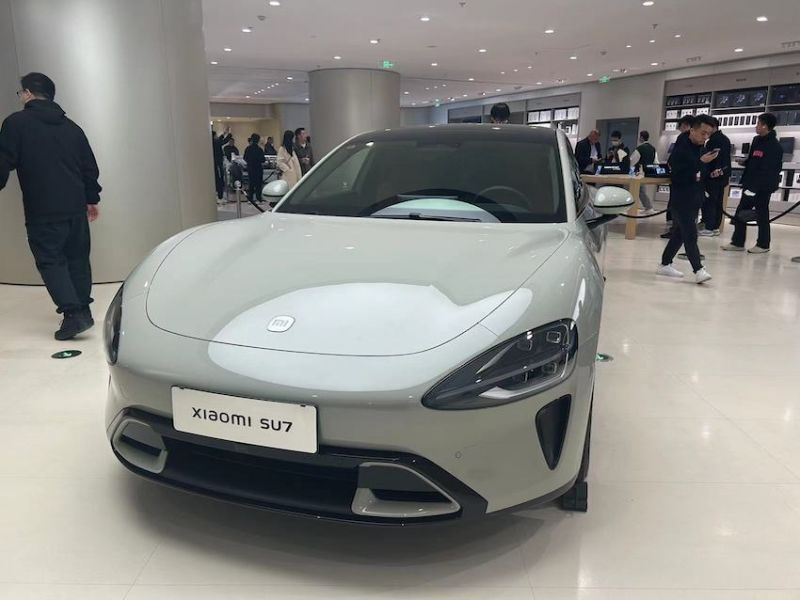su7: (99, 105, 600, 533)
